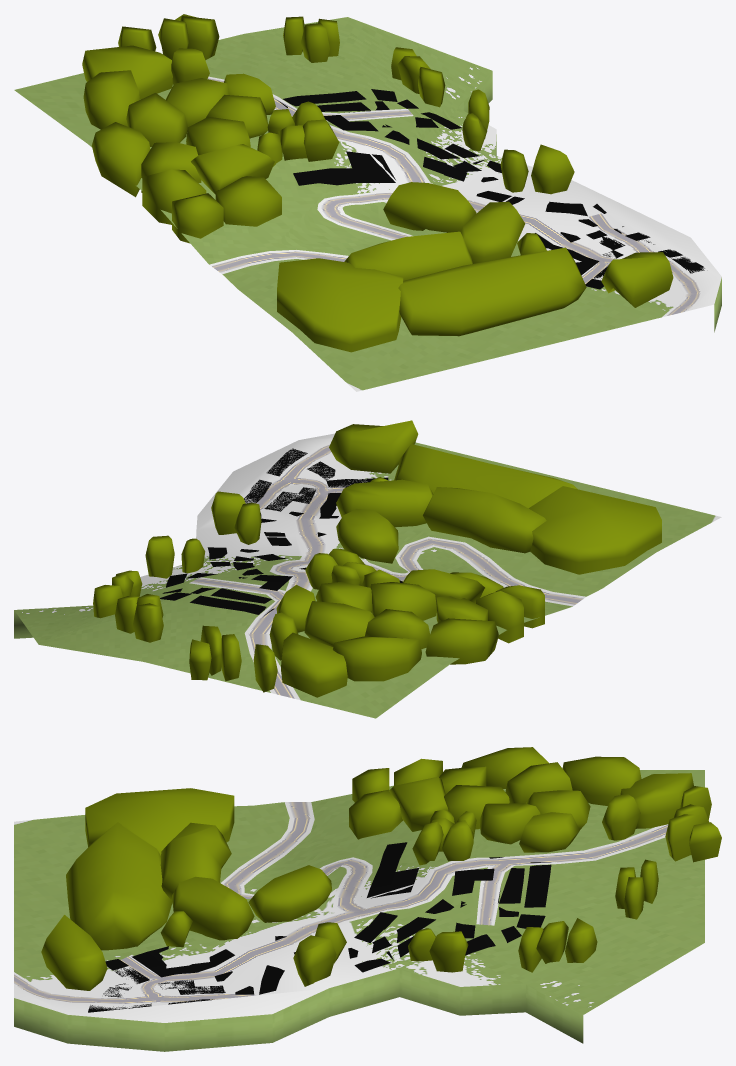
Rendered from town_A.fbx.
The picture shows the model from 3 angles, top to bottom: view 1: azimuth 30°, elevation 25°; view 2: azimuth 150°, elevation 25°; view 3: azimuth 270°, elevation 25°; orthographic projection.
Visible parts, largest first — view 1: trees, terrain; view 2: trees, terrain; view 3: terrain, trees.
Boxes of the visible parts, x1,y1,x2,y2 form: trees: (82,14,673,352); terrain: (14,17,721,391); trees: (93,420,661,697); terrain: (14,433,721,718); terrain: (14,770,704,1051); trees: (41,747,721,990).
Bounding box in the file's own units: 30.86 × 7.91 × 43.52.
4 materials, 2 textured.
